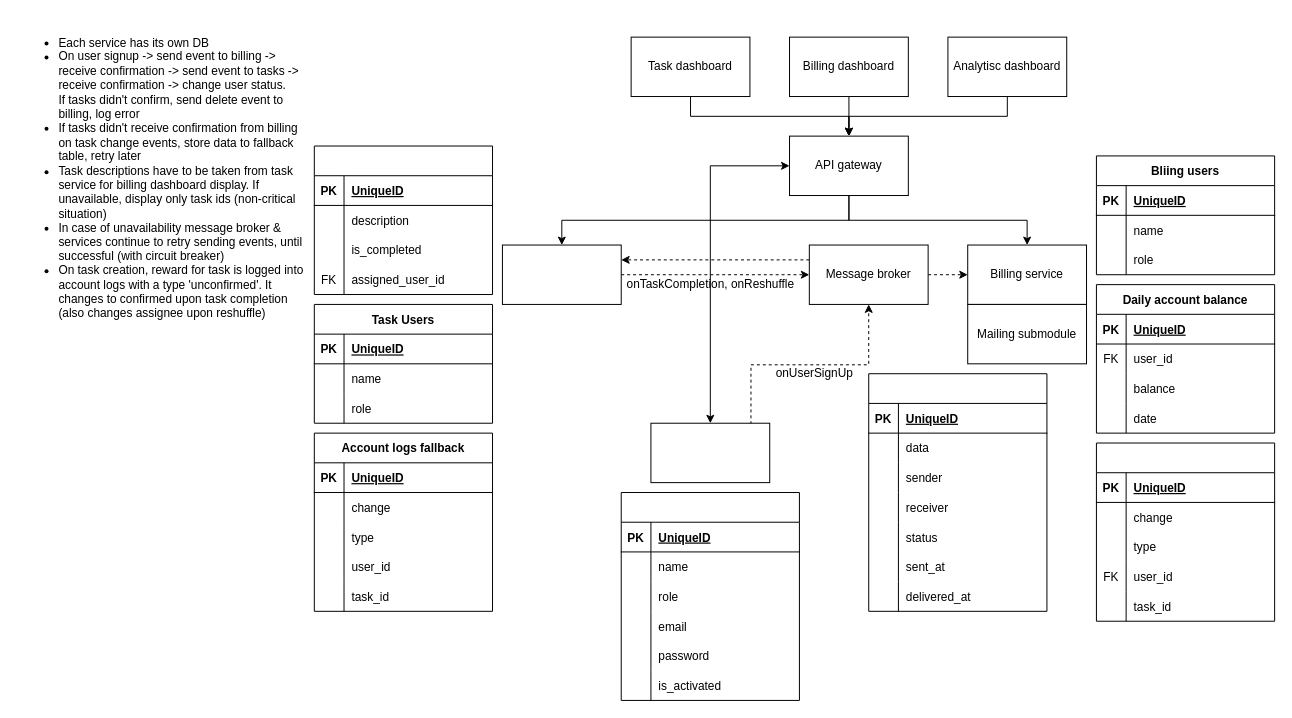
Some shapes in this 1292 by 718 pixel diagram are drawn without their labels. Each missing label, with the box of its shape:
Account logs: (1095, 442, 1275, 621)
Auth service: (650, 422, 770, 483)
Events: (868, 373, 1047, 611)
Task service: (501, 244, 621, 304)
Tasks: (313, 145, 493, 295)
Users: (620, 492, 799, 700)
